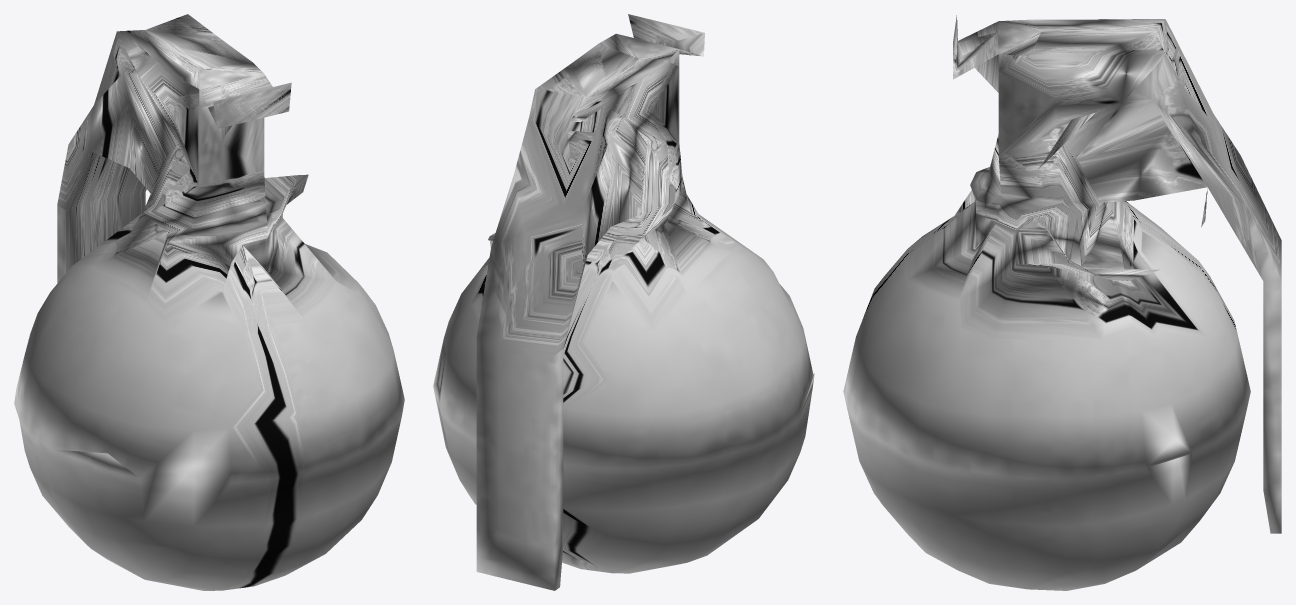
The model's file is frag.glb.
3 views of the same model, side by side, from view 1: azimuth 30°, elevation 25°; view 2: azimuth 150°, elevation 25°; view 3: azimuth 270°, elevation 25° (orthographic). The views are drawn at different scales.
Visible parts, largest first — view 1: frag; view 2: frag; view 3: frag.
Boxes of the visible parts, x1,y1,x2,y2 form: frag: (14,14,404,590); frag: (433,14,814,590); frag: (843,15,1281,590).
Size of the model in its own units: 0.1095 by 0.1595 by 0.1179.
Materials: 1 (1 with a texture image).
